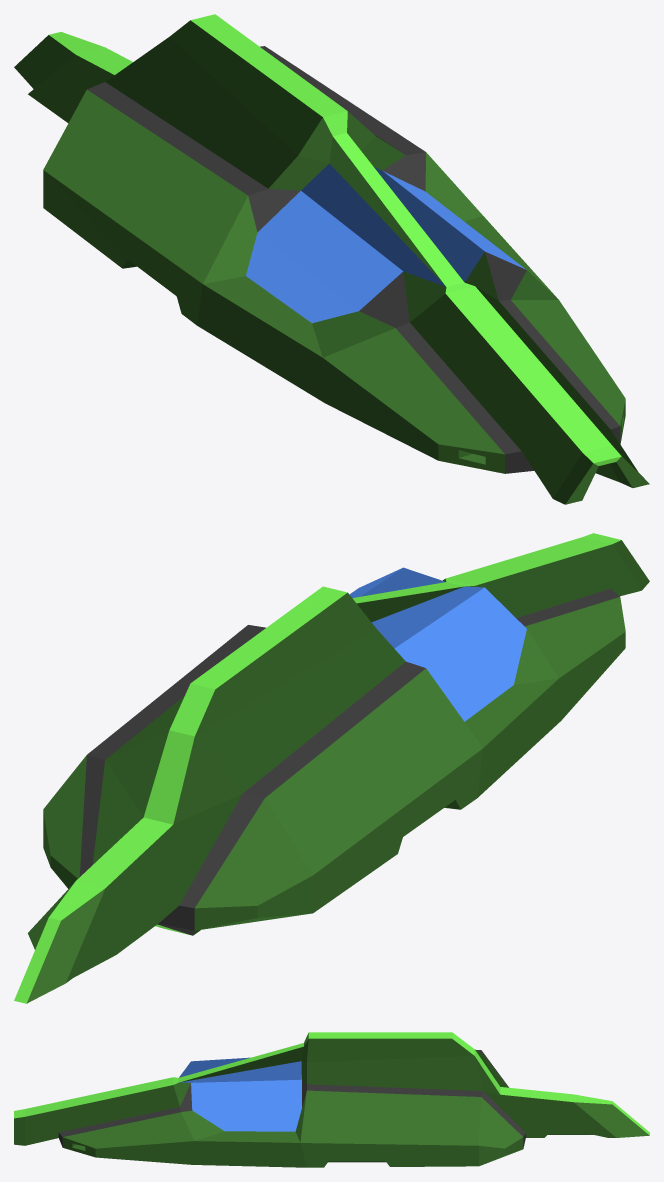
The model's file is Ship_1x3_B2.fbx.
The picture shows the model from 3 angles, top to bottom: view 1: azimuth 30°, elevation 25°; view 2: azimuth 150°, elevation 25°; view 3: azimuth 270°, elevation 25°; orthographic projection. The views are drawn at different scales.
Visible parts, largest first — view 1: Ship_1x3_B2; view 2: Ship_1x3_B2; view 3: Ship_1x3_B2.
Part boxes in pixels (x1,y1,x2,y2): Ship_1x3_B2: (14, 14, 649, 504); Ship_1x3_B2: (14, 533, 649, 1003); Ship_1x3_B2: (14, 1032, 649, 1167).
Bounding box in the file's own units: 79.59 × 61.74 × 289.
